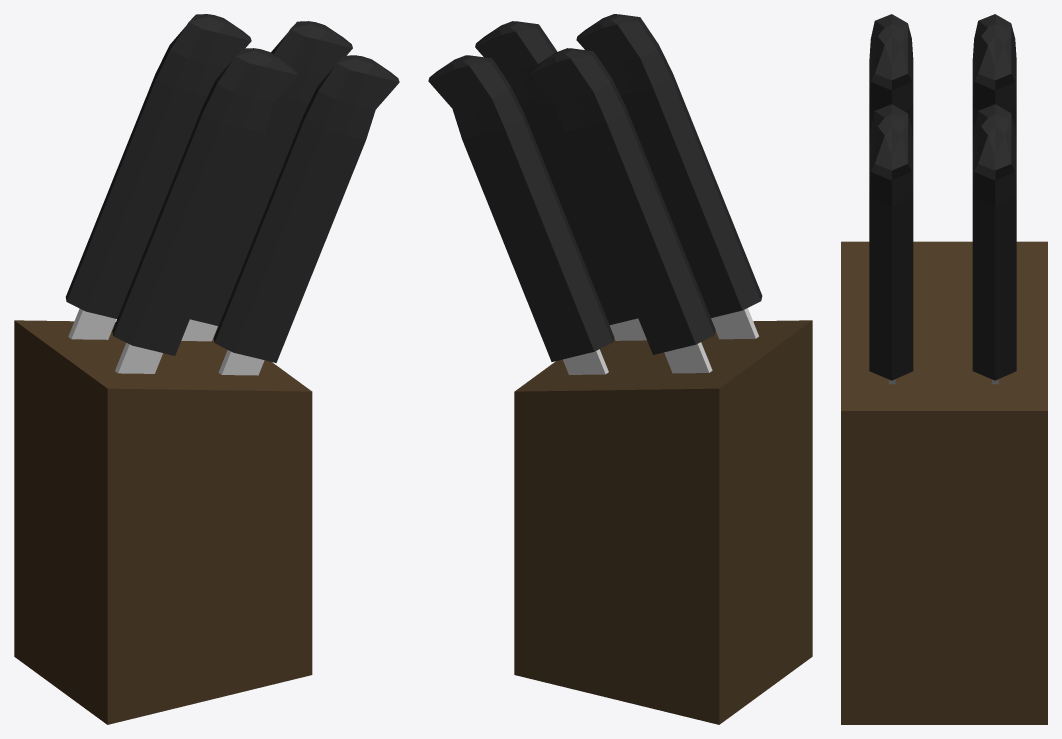
Rendered from Knives.fbx.
3 renders of one model, left to right at view 1: azimuth 30°, elevation 25°; view 2: azimuth 150°, elevation 25°; view 3: azimuth 270°, elevation 25°, orthographic. The views are drawn at different scales.
Visible parts, largest first — view 1: Box001; view 2: Box001; view 3: Box001.
Part boxes in pixels (bbox=[...]): Box001: bbox=[14, 14, 399, 724]; Box001: bbox=[428, 14, 812, 724]; Box001: bbox=[841, 14, 1047, 724].
Size of the model in its own units: 1.72 by 3.23 by 0.8862.
